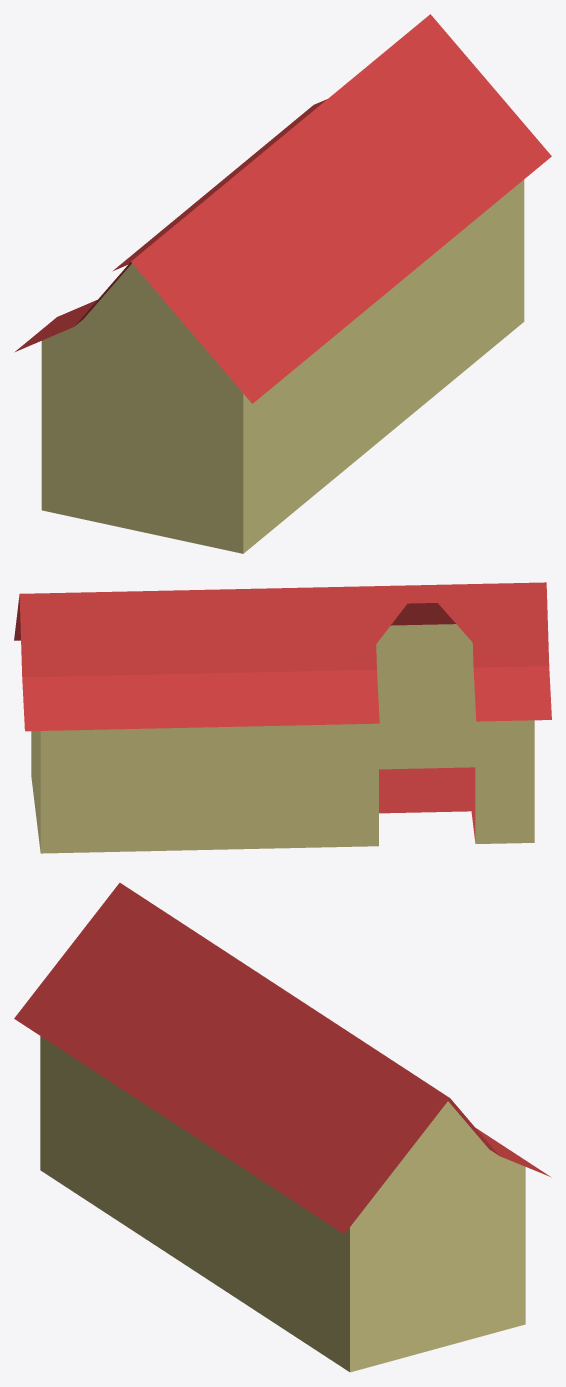
3 renders of one model, top to bottom at view 1: azimuth 30°, elevation 25°; view 2: azimuth 150°, elevation 25°; view 3: azimuth 270°, elevation 25°, orthographic. The views are drawn at different scales.
Bounding box in the file's own units: 25.31 × 21.12 × 11.11.
